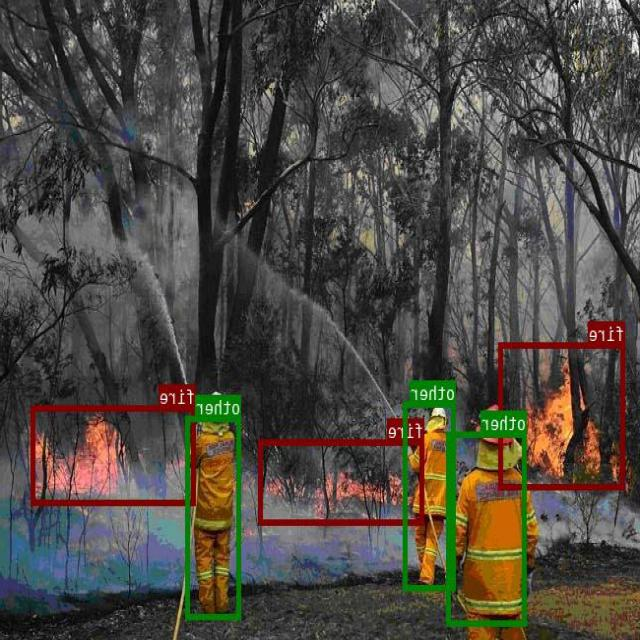fire: (499, 342, 626, 488), (32, 404, 196, 504), (260, 438, 425, 524)
other: (448, 431, 527, 625), (187, 414, 241, 618), (405, 401, 456, 589)
